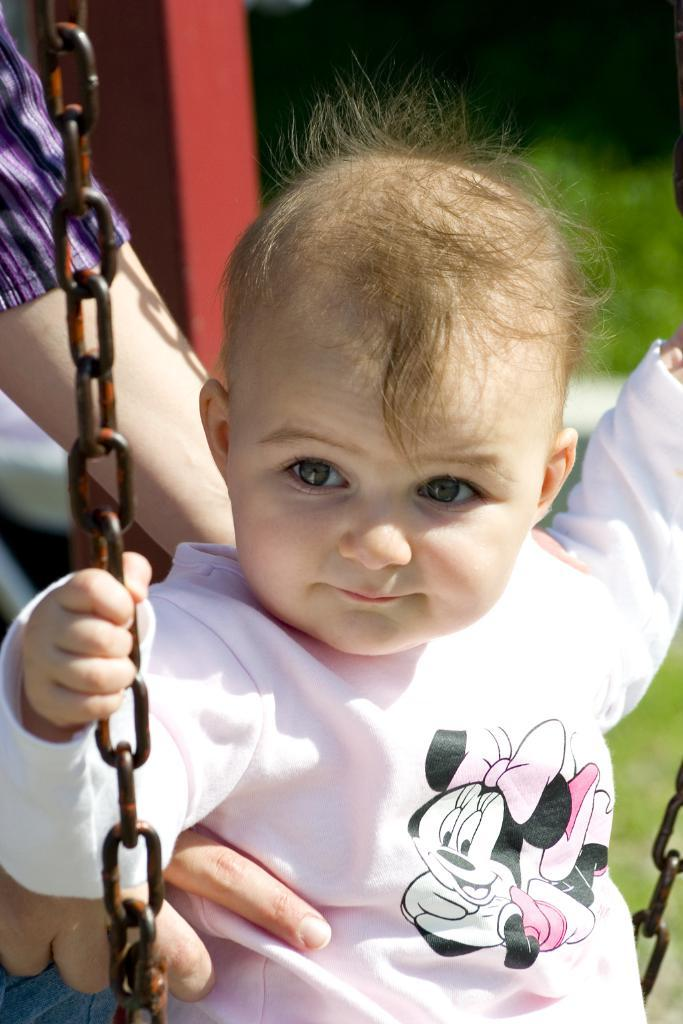Sem Máscara: (222, 313, 534, 657)
